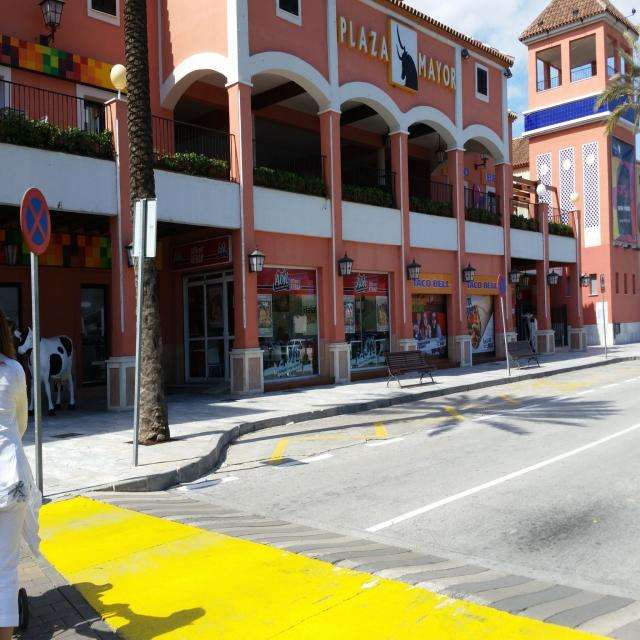forb_stopping: (498, 277, 505, 295)
forb_waiting: (24, 194, 52, 257)
